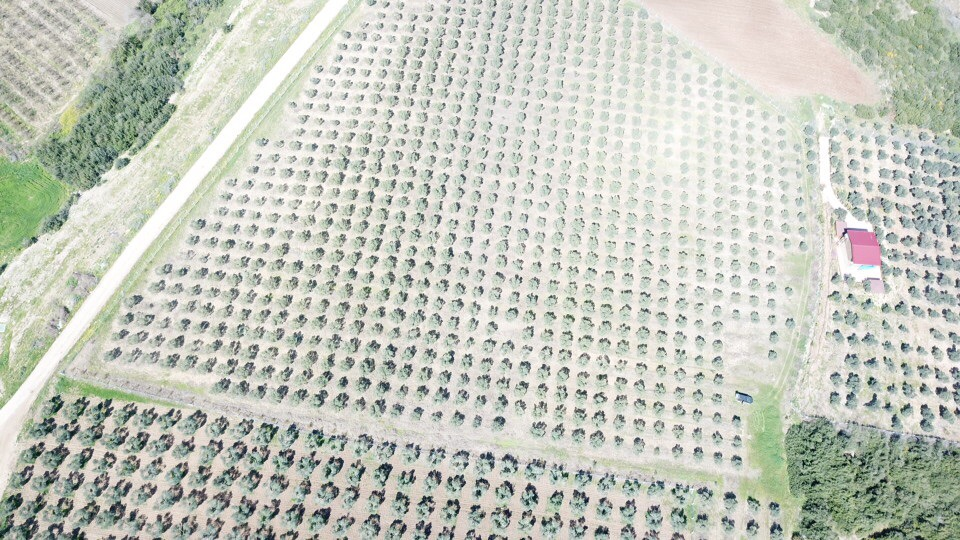oliveTree: (207, 490, 233, 516), (117, 512, 146, 535), (186, 467, 213, 490), (198, 518, 226, 540), (281, 504, 305, 529), (541, 512, 564, 538), (232, 497, 258, 520), (156, 486, 182, 509), (177, 412, 204, 434), (175, 515, 199, 539), (489, 505, 512, 530), (359, 514, 381, 540), (145, 516, 171, 538), (199, 440, 223, 463), (52, 476, 77, 498), (87, 400, 110, 423), (276, 423, 298, 447), (306, 511, 328, 535), (296, 454, 320, 476), (224, 441, 248, 463), (182, 488, 204, 512), (164, 463, 188, 485), (131, 483, 155, 505), (154, 410, 179, 431), (202, 417, 228, 437), (116, 456, 139, 478), (569, 490, 590, 514), (370, 463, 391, 487), (70, 506, 94, 527), (228, 418, 253, 438), (251, 422, 276, 442), (124, 433, 149, 453), (1, 523, 30, 540), (93, 509, 116, 530), (18, 498, 39, 521), (30, 418, 53, 439), (475, 452, 495, 476), (569, 515, 589, 539), (215, 466, 239, 486), (350, 436, 371, 458), (398, 444, 420, 465), (240, 470, 262, 491), (38, 449, 61, 469), (346, 461, 365, 485), (292, 478, 311, 502), (147, 436, 171, 455), (113, 403, 134, 424), (133, 409, 154, 430), (525, 458, 546, 479), (385, 519, 406, 540), (322, 457, 343, 478), (78, 426, 99, 447), (40, 396, 62, 416), (332, 513, 354, 533), (171, 440, 193, 460), (141, 460, 163, 480), (64, 399, 85, 419), (303, 430, 323, 451), (375, 442, 395, 463), (315, 485, 336, 505), (65, 452, 86, 472), (451, 450, 470, 472), (248, 446, 270, 465), (99, 431, 122, 449), (646, 505, 663, 529), (412, 520, 432, 540), (274, 450, 294, 470), (548, 463, 567, 484), (257, 503, 278, 522), (500, 454, 518, 476), (671, 484, 689, 506), (696, 485, 714, 507), (472, 478, 490, 500), (392, 492, 410, 514), (495, 481, 514, 501), (446, 474, 466, 493), (440, 501, 460, 520), (416, 497, 435, 517), (519, 510, 537, 531), (423, 470, 441, 491), (521, 485, 538, 507), (427, 447, 446, 466), (249, 525, 273, 540), (42, 505, 62, 523), (30, 473, 50, 491), (469, 505, 486, 526), (366, 490, 383, 511), (229, 523, 250, 540), (54, 424, 75, 441), (328, 435, 346, 454), (597, 473, 616, 491), (269, 475, 287, 494), (104, 485, 123, 503), (596, 497, 613, 517), (341, 487, 358, 507), (211, 378, 231, 395), (266, 387, 286, 404), (226, 323, 247, 339), (19, 446, 37, 464), (671, 508, 688, 527), (620, 499, 637, 518), (310, 390, 329, 407), (941, 190, 960, 207), (722, 493, 738, 513), (217, 359, 237, 375), (101, 347, 122, 362), (648, 481, 665, 499), (433, 387, 450, 405), (291, 387, 308, 405), (623, 478, 639, 497), (513, 379, 529, 398), (198, 358, 217, 374), (315, 371, 334, 387), (590, 429, 605, 449), (221, 341, 241, 356), (575, 469, 592, 486), (9, 471, 26, 488), (552, 385, 569, 402), (333, 393, 350, 410), (237, 362, 255, 378), (294, 296, 312, 312), (347, 319, 365, 335), (438, 525, 457, 540), (134, 311, 153, 326), (263, 276, 282, 291), (260, 347, 279, 362), (317, 280, 336, 295), (371, 399, 386, 418), (550, 490, 564, 510), (123, 294, 143, 308), (127, 331, 147, 345), (237, 292, 257, 306), (720, 516, 736, 533), (400, 469, 417, 485), (83, 483, 100, 499), (597, 336, 613, 353), (550, 423, 566, 440), (276, 367, 292, 384), (286, 331, 303, 347), (364, 340, 381, 356), (360, 357, 376, 374), (325, 334, 342, 350), (769, 522, 784, 540), (745, 519, 760, 537), (124, 348, 142, 363), (244, 273, 262, 288), (252, 309, 270, 324), (257, 365, 275, 380), (288, 315, 306, 330), (310, 315, 328, 330), (388, 308, 406, 323), (294, 369, 312, 384), (945, 223, 960, 241), (925, 287, 940, 305), (91, 458, 110, 472), (211, 253, 230, 267), (146, 280, 165, 294), (621, 524, 637, 540), (636, 307, 652, 323), (532, 402, 548, 418), (530, 421, 546, 437), (281, 349, 297, 365), (352, 302, 368, 318), (392, 291, 408, 307), (421, 348, 437, 364), (936, 255, 952, 271), (639, 259, 654, 276), (594, 525, 611, 540), (378, 272, 395, 287), (536, 363, 551, 380), (181, 355, 198, 370), (221, 289, 238, 304), (267, 327, 284, 342), (409, 311, 426, 326), (397, 362, 412, 379), (320, 353, 335, 370), (945, 207, 960, 224), (942, 308, 959, 323), (902, 381, 917, 398), (307, 248, 325, 262), (162, 354, 181, 367), (232, 309, 251, 322), (297, 280, 316, 293), (368, 237, 383, 253), (542, 311, 557, 327), (596, 354, 611, 370), (552, 404, 567, 420), (555, 366, 570, 382), (235, 380, 250, 396), (243, 344, 259, 359), (476, 374, 491, 390), (301, 351, 316, 367), (306, 334, 322, 349), (917, 232, 933, 247), (920, 404, 935, 420), (846, 372, 861, 388), (249, 257, 266, 271), (305, 263, 322, 277), (382, 256, 399, 270), (579, 300, 596, 314), (580, 316, 594, 333), (494, 395, 508, 412), (518, 360, 532, 377), (592, 410, 606, 427), (209, 324, 226, 338), (334, 302, 351, 316), (453, 390, 470, 404), (381, 359, 395, 376), (355, 377, 372, 391), (180, 299, 198, 312), (191, 322, 209, 335), (605, 209, 620, 224), (419, 261, 434, 276), (439, 247, 454, 262), (487, 286, 502, 301), (508, 273, 523, 288), (600, 270, 615, 285), (672, 332, 687, 347), (616, 340, 631, 355), (284, 277, 299, 292), (252, 384, 267, 399), (339, 284, 354, 299), (482, 339, 497, 354), (402, 345, 417, 360), (383, 343, 398, 358), (340, 356, 355, 371), (938, 406, 953, 421), (936, 387, 951, 402), (569, 218, 585, 232), (336, 218, 352, 232), (243, 224, 259, 238), (232, 256, 248, 270), (420, 246, 436, 260), (436, 263, 452, 277), (494, 253, 508, 269), (547, 262, 563, 276), (562, 296, 578, 310), (583, 267, 597, 283), (599, 303, 613, 319), (557, 349, 573, 363), (519, 344, 533, 360), (501, 339, 515, 355), (576, 370, 590, 386), (150, 333, 166, 347), (169, 335, 185, 349), (249, 326, 265, 340), (272, 310, 288, 324), (448, 299, 464, 313), (467, 300, 481, 316), (441, 349, 455, 365), (374, 381, 390, 395), (345, 338, 361, 352), (849, 190, 863, 206), (912, 217, 928, 231), (844, 310, 858, 326), (768, 501, 781, 518), (696, 512, 709, 529), (218, 240, 235, 253), (384, 241, 401, 254), (414, 278, 431, 291), (632, 436, 645, 453), (204, 341, 221, 354), (276, 295, 293, 308), (846, 392, 859, 409), (33, 530, 55, 540), (188, 219, 206, 231), (177, 249, 195, 261), (312, 232, 330, 244), (155, 264, 173, 276), (116, 314, 134, 326), (623, 212, 638, 226), (604, 224, 618, 239), (375, 208, 390, 222), (410, 213, 425, 227), (568, 250, 582, 265), (425, 231, 440, 245), (297, 229, 312, 243), (290, 260, 304, 275), (347, 251, 362, 265), (364, 256, 379, 270), (546, 280, 561, 294), (564, 281, 578, 296), (654, 330, 669, 344), (616, 323, 631, 337), (540, 329, 554, 344), (578, 336, 593, 350), (576, 353, 591, 367), (536, 383, 550, 398), (614, 395, 628, 410), (331, 317, 346, 331), (429, 313, 443, 328), (424, 330, 439, 344), (446, 333, 460, 348), (479, 358, 494, 372), (451, 411, 465, 426), (455, 373, 470, 387), (409, 407, 424, 421), (418, 367, 433, 381), (395, 384, 409, 399), (885, 231, 900, 245), (887, 248, 902, 262), (862, 332, 877, 346), (934, 366, 948, 381), (867, 376, 881, 391), (334, 157, 350, 170), (747, 497, 760, 513), (270, 259, 286, 272), (619, 304, 632, 320), (673, 298, 689, 311), (573, 405, 586, 421), (572, 428, 585, 444), (613, 414, 626, 430), (162, 299, 178, 312), (168, 283, 184, 296), (145, 350, 161, 363), (174, 319, 190, 332), (486, 321, 499, 337), (921, 161, 937, 174), (911, 203, 927, 216), (906, 268, 922, 281), (942, 292, 958, 305), (929, 327, 945, 340), (882, 355, 895, 371), (919, 419, 935, 432), (185, 340, 202, 352), (201, 238, 219, 249), (557, 173, 571, 187), (552, 217, 566, 231), (414, 198, 428, 212), (585, 252, 599, 266), (344, 267, 358, 281), (401, 258, 415, 272), (399, 274, 413, 288), (452, 282, 466, 296), (473, 269, 487, 283), (490, 272, 504, 286), (525, 292, 539, 306), (582, 284, 596, 298), (638, 291, 652, 305), (636, 326, 650, 340), (539, 346, 553, 360), (504, 307, 518, 321), (491, 417, 505, 431), (594, 374, 608, 388), (904, 141, 918, 155), (908, 171, 922, 185), (899, 215, 913, 229), (946, 346, 960, 360), (845, 353, 859, 367), (864, 356, 878, 370), (918, 364, 932, 378), (555, 188, 570, 201), (388, 150, 403, 163), (386, 164, 401, 177), (341, 204, 356, 217), (442, 233, 457, 246), (354, 220, 369, 233), (208, 221, 223, 234), (275, 244, 290, 257), (332, 235, 347, 248), (618, 289, 633, 302), (655, 310, 668, 325), (711, 373, 726, 386), (693, 334, 706, 349), (674, 349, 687, 364), (674, 367, 687, 382), (597, 321, 612, 334), (200, 303, 215, 316), (258, 293, 273, 306), (375, 289, 390, 302), (416, 386, 429, 401), (389, 404, 404, 417), (353, 397, 366, 412), (831, 169, 844, 184), (906, 156, 921, 169), (925, 190, 940, 203), (929, 219, 942, 234), (903, 250, 918, 263), (865, 396, 880, 409), (623, 197, 639, 209), (607, 181, 623, 193), (398, 182, 414, 194), (407, 139, 423, 151), (278, 229, 294, 241), (324, 266, 340, 278), (731, 454, 743, 470), (193, 267, 209, 279), (227, 274, 243, 286), (927, 207, 943, 219), (827, 291, 843, 303), (931, 345, 943, 361), (892, 414, 904, 430), (304, 201, 321, 212), (543, 296, 560, 307), (110, 330, 127, 341), (210, 270, 227, 281), (185, 285, 202, 296), (204, 287, 221, 298), (216, 307, 233, 318), (893, 203, 910, 214), (937, 274, 954, 285), (761, 218, 775, 231), (641, 213, 654, 227), (641, 228, 654, 242), (623, 226, 637, 239), (473, 162, 487, 175), (433, 185, 446, 199), (352, 160, 366, 173), (383, 179, 396, 193), (309, 184, 323, 197), (428, 215, 442, 228), (569, 233, 582, 247), (623, 242, 636, 256), (641, 244, 655, 257), (748, 278, 761, 292), (392, 226, 406, 239), (302, 214, 316, 227), (361, 271, 375, 284), (436, 278, 449, 292), (600, 287, 614, 300), (621, 272, 634, 286), (638, 277, 652, 290), (655, 279, 669, 292), (656, 295, 669, 309), (562, 314, 575, 328), (524, 310, 538, 323), (636, 343, 649, 357), (615, 358, 628, 372), (593, 392, 607, 405), (633, 379, 646, 393), (633, 398, 646, 412), (673, 386, 686, 400), (357, 286, 371, 299), (372, 306, 386, 319), (407, 327, 421, 340), (466, 317, 479, 331), (438, 370, 452, 383), (848, 175, 862, 188), (938, 164, 951, 178), (878, 182, 892, 195), (883, 215, 896, 229), (861, 297, 875, 310), (847, 332, 860, 346), (919, 383, 932, 397), (575, 175, 587, 190), (572, 205, 584, 220), (444, 129, 459, 141), (396, 196, 411, 208), (329, 174, 344, 186), (319, 218, 334, 230), (642, 530, 660, 540), (184, 234, 199, 246), (329, 251, 344, 263), (458, 251, 473, 263), (565, 267, 580, 279), (560, 330, 572, 345), (671, 404, 686, 416), (673, 424, 685, 439), (671, 443, 683, 458), (416, 293, 428, 308), (434, 296, 446, 311), (448, 316, 460, 331), (900, 235, 915, 247), (920, 255, 935, 267), (515, 400, 526, 416), (693, 447, 704, 463), (909, 187, 925, 198), (922, 176, 938, 187), (882, 198, 893, 214), (463, 531, 482, 540), (386, 95, 399, 108), (745, 173, 758, 186), (658, 231, 671, 244), (627, 168, 640, 181), (593, 165, 606, 178), (591, 178, 604, 191), (588, 223, 601, 236), (554, 202, 567, 215), (503, 195, 516, 208), (475, 147, 488, 160), (452, 187, 465, 200), (417, 184, 430, 197), (359, 206, 372, 219), (393, 211, 406, 224), (516, 229, 529, 242), (586, 237, 599, 250), (604, 241, 617, 254), (621, 258, 634, 271), (606, 255, 619, 268), (409, 229, 422, 242), (227, 223, 240, 236), (353, 237, 366, 250), (456, 266, 469, 279), (499, 359, 512, 372), (498, 377, 511, 390), (615, 377, 628, 390), (710, 393, 723, 406), (711, 431, 724, 444), (316, 299, 329, 312), (829, 155, 842, 168), (875, 134, 888, 147), (912, 305, 925, 318), (901, 405, 914, 418), (425, 61, 439, 73), (455, 77, 469, 89), (391, 70, 405, 82), (435, 87, 449, 99), (432, 101, 446, 113), (643, 186, 657, 198), (609, 166, 621, 180), (590, 207, 602, 221), (575, 163, 589, 175), (536, 201, 550, 213), (488, 164, 502, 176), (403, 167, 417, 179), (406, 152, 420, 164), (292, 184, 306, 196), (361, 191, 375, 203), (464, 220, 476, 234), (497, 225, 511, 237), (552, 232, 564, 246), (659, 246, 671, 260), (459, 237, 473, 249), (372, 224, 386, 236), (470, 286, 484, 298), (675, 314, 687, 328), (712, 287, 724, 301), (654, 365, 668, 377), (655, 346, 667, 360), (634, 363, 648, 375), (653, 419, 665, 433), (692, 389, 704, 403), (388, 327, 402, 339), (853, 207, 865, 221), (847, 158, 861, 170), (893, 169, 907, 181), (867, 211, 881, 223), (908, 287, 922, 299), (832, 329, 844, 343), (830, 372, 842, 386), (412, 48, 427, 59), (284, 213, 299, 224), (523, 326, 534, 341), (692, 408, 703, 423), (488, 305, 499, 320), (475, 395, 486, 410), (590, 23, 603, 35), (634, 53, 647, 65), (477, 43, 490, 55), (490, 57, 503, 69), (444, 51, 457, 63), (398, 46, 411, 58), (440, 75, 453, 87), (418, 99, 431, 111), (562, 132, 575, 144), (696, 151, 709, 163), (780, 222, 792, 235), (747, 215, 759, 228), (678, 205, 690, 218), (608, 195, 620, 208), (577, 148, 589, 161), (572, 192, 585, 204), (542, 158, 555, 170), (539, 185, 551, 198), (521, 198, 533, 211), (510, 152, 522, 165), (507, 166, 520, 178), (501, 210, 513, 223), (469, 191, 482, 203), (454, 174, 467, 186), (428, 128, 441, 140), (426, 141, 439, 153), (423, 156, 436, 168), (377, 135, 390, 147), (372, 149, 385, 161), (318, 157, 331, 169), (369, 163, 382, 175), (367, 177, 380, 189), (380, 194, 393, 206), (325, 203, 338, 215), (678, 250, 690, 263), (730, 260, 742, 273), (748, 261, 760, 274), (730, 275, 742, 288), (695, 269, 707, 282), (658, 264, 670, 277), (532, 246, 544, 259), (514, 243, 526, 256), (496, 240, 508, 253), (476, 253, 488, 266), (508, 292, 521, 304), (529, 261, 542, 273), (692, 302, 705, 314), (784, 317, 796, 330), (711, 340, 724, 352), (711, 356, 723, 369), (692, 372, 705, 384), (574, 389, 587, 401), (633, 419, 646, 431), (652, 401, 665, 413), (158, 316, 171, 328), (461, 354, 473, 367), (430, 411, 443, 423), (895, 185, 908, 197), (923, 270, 935, 283), (846, 292, 858, 305), (895, 301, 907, 314), (509, 38, 523, 49), (428, 50, 442, 61), (486, 82, 500, 93), (579, 122, 593, 133), (564, 119, 578, 130), (401, 97, 415, 108), (415, 112, 429, 123), (680, 161, 691, 175), (470, 177, 484, 188), (411, 126, 425, 137), (361, 120, 375, 131), (314, 172, 328, 183), (296, 171, 310, 182), (326, 187, 340, 198), (345, 189, 359, 200), (288, 199, 302, 210), (256, 243, 270, 254), (749, 310, 760, 324), (175, 266, 189, 277), (464, 337, 475, 351), (472, 415, 483, 429), (878, 168, 892, 179), (938, 179, 952, 190), (881, 261, 892, 275), (900, 361, 911, 375), (830, 391, 841, 405), (440, 64, 455, 74), (397, 110, 412, 120), (266, 213, 281, 223), (197, 254, 212, 264), (692, 427, 702, 442), (874, 227, 884, 242), (950, 366, 960, 381), (619, 50, 631, 62), (667, 35, 679, 47), (633, 90, 645, 102), (421, 85, 433, 97), (453, 90, 465, 102), (696, 125, 708, 137), (467, 105, 479, 117), (481, 121, 493, 133), (630, 142, 642, 154), (763, 205, 775, 217), (746, 201, 758, 213), (729, 171, 741, 183), (713, 196, 725, 208), (627, 183, 639, 195), (611, 153, 623, 165), (595, 151, 607, 163), (591, 194, 603, 206), (561, 145, 573, 157), (492, 151, 504, 163), (466, 205, 478, 217), (457, 159, 469, 171), (449, 202, 461, 214), (440, 157, 452, 169), (437, 172, 449, 184), (528, 277, 540, 289), (694, 286, 706, 298), (711, 321, 723, 333), (748, 295, 760, 307), (731, 436, 743, 448), (830, 141, 842, 153), (891, 152, 903, 164), (877, 149, 889, 161), (861, 148, 873, 160), (863, 180, 875, 192), (948, 331, 960, 343), (882, 340, 894, 352), (546, 6, 559, 17), (556, 42, 569, 53), (451, 17, 464, 28), (433, 27, 446, 38), (492, 45, 505, 56), (602, 61, 615, 72), (665, 82, 678, 93), (649, 80, 662, 91), (506, 60, 519, 71), (410, 60, 423, 71), (456, 65, 469, 76), (615, 88, 628, 99), (648, 93, 659, 106), (373, 81, 386, 92), (468, 92, 481, 103), (614, 113, 627, 124), (646, 118, 659, 129), (369, 94, 382, 105), (382, 109, 395, 120), (448, 116, 461, 127), (546, 129, 557, 142), (748, 231, 759, 244), (730, 184, 741, 197), (696, 221, 707, 234), (643, 199, 654, 212), (628, 155, 639, 168), (545, 144, 558, 155), (528, 140, 539, 153), (505, 181, 516, 194), (483, 207, 494, 220), (443, 143, 456, 154), (420, 170, 433, 181), (343, 132, 356, 143), (339, 145, 352, 156), (220, 191, 233, 202), (677, 266, 688, 279), (478, 239, 491, 250), (239, 241, 252, 252), (513, 258, 524, 271), (676, 282, 687, 295), (692, 319, 705, 330), (655, 382, 666, 395), (337, 376, 348, 389), (844, 128, 855, 141), (921, 145, 934, 156), (866, 198, 879, 209), (927, 307, 940, 318), (900, 342, 913, 353), (557, 31, 571, 41), (576, 11, 590, 21), (494, 34, 508, 44), (632, 78, 646, 88), (617, 76, 631, 86), (394, 59, 408, 69), (345, 119, 359, 129), (356, 147, 370, 157), (322, 144, 336, 154), (289, 141, 303, 151), (712, 304, 722, 318), (691, 356, 705, 366), (917, 131, 931, 141), (607, 4, 619, 15), (467, 18, 479, 29), (524, 50, 536, 61), (571, 57, 583, 68), (587, 59, 598, 71), (634, 66, 646, 77), (523, 62, 534, 74), (475, 56, 487, 67), (473, 68, 485, 79), (522, 74, 533, 86), (552, 91, 563, 103), (504, 85, 515, 97), (424, 74, 436, 85), (389, 82, 401, 93), (405, 84, 417, 95), (713, 127, 724, 139), (729, 144, 740, 156), (713, 142, 724, 154), (679, 136, 691, 147), (647, 132, 659, 143), (531, 115, 543, 126), (515, 112, 527, 123), (465, 119, 477, 130), (580, 135, 591, 147), (595, 137, 607, 148), (647, 145, 658, 157), (662, 147, 674, 158), (763, 162, 774, 174), (763, 177, 775, 188), (764, 235, 776, 246), (746, 188, 757, 200), (729, 200, 741, 211), (730, 243, 741, 255), (712, 211, 724, 222), (678, 177, 690, 188), (678, 219, 689, 231), (660, 189, 672, 200), (661, 203, 672, 215), (660, 218, 672, 229), (645, 159, 657, 170), (559, 160, 571, 171), (541, 173, 553, 184), (536, 216, 547, 228), (525, 168, 536, 180), (523, 182, 534, 194), (517, 213, 529, 224), (511, 139, 523, 150), (488, 180, 500, 191), (487, 192, 498, 204), (460, 145, 471, 157), (380, 122, 392, 133), (361, 133, 372, 145), (242, 179, 254, 190), (237, 194, 249, 205), (447, 219, 459, 230), (481, 223, 493, 234), (534, 232, 546, 243), (696, 254, 707, 266), (263, 227, 274, 239), (405, 246, 417, 257), (768, 331, 779, 343), (371, 323, 383, 334), (803, 125, 815, 136), (806, 150, 817, 162), (806, 163, 818, 174), (837, 190, 848, 202), (830, 274, 842, 285), (525, 39, 538, 49), (606, 16, 619, 26), (650, 34, 663, 44), (512, 26, 525, 36), (448, 29, 461, 39), (488, 70, 501, 80), (599, 86, 612, 96), (408, 73, 421, 83), (582, 109, 595, 119), (305, 88, 318, 98), (350, 106, 363, 116), (430, 115, 443, 125), (783, 237, 793, 250), (679, 190, 689, 203), (496, 136, 506, 149), (433, 200, 443, 213), (280, 169, 293, 179), (255, 196, 268, 206), (552, 248, 562, 261), (216, 206, 229, 216), (950, 243, 960, 256), (883, 281, 893, 294), (444, 40, 458, 49), (292, 128, 306, 137), (931, 136, 945, 145), (515, 14, 526, 25), (529, 16, 540, 27), (562, 8, 573, 19), (593, 1, 604, 12), (589, 47, 600, 58), (604, 49, 615, 60), (556, 54, 567, 65), (619, 64, 630, 75), (713, 90, 724, 101), (555, 67, 566, 78), (506, 72, 517, 83), (538, 76, 549, 87), (713, 102, 724, 113), (584, 96, 595, 107), (536, 89, 547, 100), (485, 95, 496, 106), (630, 115, 641, 126), (745, 133, 756, 144), (761, 149, 772, 160), (631, 129, 642, 140), (614, 127, 625, 138), (498, 124, 509, 135), (745, 160, 756, 171), (762, 190, 773, 201), (713, 241, 724, 252), (695, 179, 706, 190), (464, 131, 475, 142), (766, 282, 777, 293), (714, 273, 725, 284), (613, 435, 624, 446), (881, 303, 892, 314), (501, 1, 513, 11), (517, 1, 527, 13), (527, 27, 539, 37), (575, 22, 587, 32), (574, 33, 586, 43), (573, 45, 585, 55), (637, 9, 649, 19), (620, 39, 632, 49), (635, 31, 647, 41), (635, 42, 647, 52), (651, 23, 663, 33), (437, 15, 449, 25), (404, 24, 416, 34), (416, 37, 428, 47), (712, 67, 724, 77), (696, 75, 708, 85), (602, 74, 614, 84), (539, 64, 551, 74), (461, 53, 473, 63), (584, 84, 596, 94), (519, 88, 531, 98), (502, 98, 512, 110), (482, 109, 494, 119), (366, 107, 378, 117), (680, 150, 692, 160), (730, 214, 740, 226), (713, 167, 723, 179), (697, 238, 707, 250), (678, 234, 688, 246), (663, 174, 673, 186), (645, 172, 655, 184), (480, 134, 490, 146), (397, 124, 409, 134), (326, 130, 338, 140), (350, 174, 362, 184), (231, 209, 246, 217), (730, 291, 740, 303), (766, 350, 778, 360), (731, 415, 741, 427), (834, 208, 846, 218), (952, 258, 960, 273), (882, 320, 892, 332), (832, 310, 842, 322), (916, 346, 928, 356), (559, 20, 572, 29), (590, 13, 603, 22), (496, 23, 509, 32), (567, 94, 580, 103), (328, 66, 341, 75), (356, 80, 369, 89), (731, 227, 740, 240), (296, 115, 309, 124), (273, 140, 286, 149), (256, 138, 269, 147), (224, 178, 237, 187), (272, 197, 285, 206), (847, 276, 856, 289), (246, 166, 260, 174), (58, 533, 74, 540), (863, 279, 871, 293), (440, 4, 451, 14), (500, 12, 511, 22), (531, 5, 542, 15), (546, 18, 557, 28), (590, 36, 601, 46), (606, 38, 617, 48), (651, 45, 662, 55), (666, 59, 677, 69), (651, 57, 662, 67), (483, 21, 494, 31), (431, 39, 442, 49), (541, 52, 551, 63), (666, 71, 677, 81), (681, 73, 692, 83), (682, 85, 693, 95), (368, 45, 379, 55), (664, 96, 675, 106), (760, 110, 770, 121), (680, 111, 691, 121), (600, 99, 611, 109), (472, 81, 483, 91), (376, 69, 387, 79), (534, 102, 545, 112), (600, 111, 610, 122), (664, 120, 674, 131), (729, 130, 739, 141), (778, 139, 788, 150), (696, 139, 707, 149), (598, 125, 609, 135), (515, 126, 526, 136), (613, 141, 624, 151), (712, 155, 723, 165), (729, 158, 739, 169), (778, 166, 789, 176), (780, 208, 790, 219), (766, 250, 776, 261), (749, 246, 759, 257), (713, 183, 723, 194), (713, 225, 723, 236), (697, 193, 707, 204), (527, 155, 537, 166), (395, 137, 406, 147), (271, 152, 281, 163), (766, 265, 776, 276), (731, 309, 741, 320), (767, 314, 777, 325), (712, 412, 722, 423), (935, 148, 945, 159), (949, 153, 960, 163), (934, 239, 944, 250), (455, 7, 467, 16), (578, 1, 590, 10), (635, 21, 647, 30), (622, 19, 634, 28), (464, 31, 476, 40), (355, 32, 367, 41), (370, 33, 382, 42), (401, 36, 413, 45), (586, 72, 598, 81), (350, 43, 362, 52), (331, 54, 343, 63), (380, 59, 392, 68), (568, 83, 580, 92), (359, 68, 371, 77), (344, 67, 356, 76), (324, 78, 336, 87), (665, 133, 674, 145), (353, 94, 365, 103), (797, 212, 806, 224), (799, 241, 808, 253), (310, 129, 322, 138), (306, 143, 318, 152), (714, 257, 723, 269), (250, 212, 262, 221), (767, 298, 776, 310), (671, 533, 686, 540), (424, 2, 434, 12), (544, 29, 554, 39), (650, 69, 660, 79), (698, 64, 708, 74), (698, 87, 708, 97), (382, 46, 392, 56), (729, 105, 739, 115), (633, 104, 643, 114), (550, 105, 560, 115), (682, 123, 692, 133), (338, 91, 348, 101), (779, 181, 789, 191), (779, 194, 789, 204), (696, 166, 706, 176), (713, 452, 723, 462), (804, 138, 814, 148), (847, 146, 857, 156), (893, 267, 903, 277), (883, 401, 893, 411), (887, 382, 897, 392), (394, 1, 405, 10), (470, 8, 481, 17), (623, 7, 634, 16), (621, 29, 632, 38), (407, 13, 418, 22), (375, 11, 386, 20), (480, 33, 491, 42), (341, 30, 352, 39), (386, 35, 397, 44), (462, 42, 473, 51), (508, 49, 519, 58), (664, 109, 675, 118), (647, 108, 658, 117), (342, 79, 353, 88), (568, 105, 577, 116), (746, 147, 755, 158), (451, 104, 462, 113), (319, 103, 330, 112), (335, 105, 346, 114), (696, 207, 705, 218), (265, 167, 276, 176), (313, 118, 325, 126), (286, 155, 298, 163), (953, 180, 960, 193), (953, 382, 960, 395), (485, 10, 495, 19), (606, 27, 616, 36), (666, 48, 676, 57), (374, 22, 384, 31), (713, 79, 723, 88), (745, 96, 755, 105), (729, 93, 738, 103), (554, 80, 564, 89), (681, 98, 690, 108), (776, 128, 786, 137), (745, 121, 755, 130), (713, 116, 723, 125), (697, 115, 707, 124), (616, 102, 626, 111), (519, 100, 528, 110), (794, 143, 803, 153), (550, 119, 560, 128), (795, 197, 804, 207), (798, 227, 807, 237), (279, 183, 288, 193), (784, 287, 793, 297), (873, 121, 883, 130), (831, 127, 840, 137), (898, 324, 908, 333), (682, 51, 693, 59), (422, 14, 433, 22), (392, 13, 403, 21), (337, 43, 348, 51), (760, 126, 771, 134), (310, 77, 321, 85), (322, 91, 333, 99), (947, 139, 958, 147), (880, 245, 887, 257), (953, 407, 960, 419), (389, 23, 398, 32), (729, 81, 738, 90), (745, 109, 754, 118), (777, 115, 786, 124), (730, 119, 739, 128), (762, 137, 771, 146), (531, 128, 540, 137), (304, 157, 313, 166), (843, 115, 852, 124), (903, 129, 912, 138), (892, 141, 901, 150), (381, 1, 391, 9), (350, 56, 360, 64), (314, 65, 324, 73), (303, 102, 313, 110), (263, 182, 273, 190), (890, 126, 898, 136), (859, 135, 869, 143), (327, 120, 340, 126), (953, 165, 960, 176), (953, 393, 960, 404), (543, 41, 551, 50), (420, 27, 429, 35), (572, 70, 581, 78), (697, 102, 706, 110), (254, 153, 262, 162), (488, 1, 498, 8), (359, 22, 369, 29), (288, 101, 298, 108), (366, 58, 374, 66), (796, 170, 803, 179), (653, 446, 660, 455), (365, 1, 377, 6), (779, 155, 786, 163), (548, 1, 559, 6), (607, 1, 620, 5), (563, 1, 573, 6), (863, 167, 870, 174), (795, 158, 801, 165), (860, 121, 867, 127), (473, 1, 482, 5), (829, 115, 835, 121), (797, 186, 802, 193), (533, 1, 544, 4), (458, 1, 465, 4)
